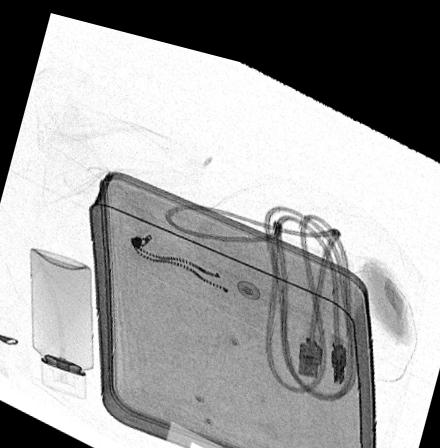Sprayer: (28, 246, 92, 393)
